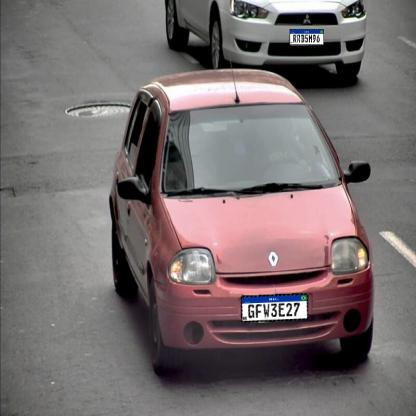PlacaM: (241, 294, 308, 323), (290, 29, 324, 45)
